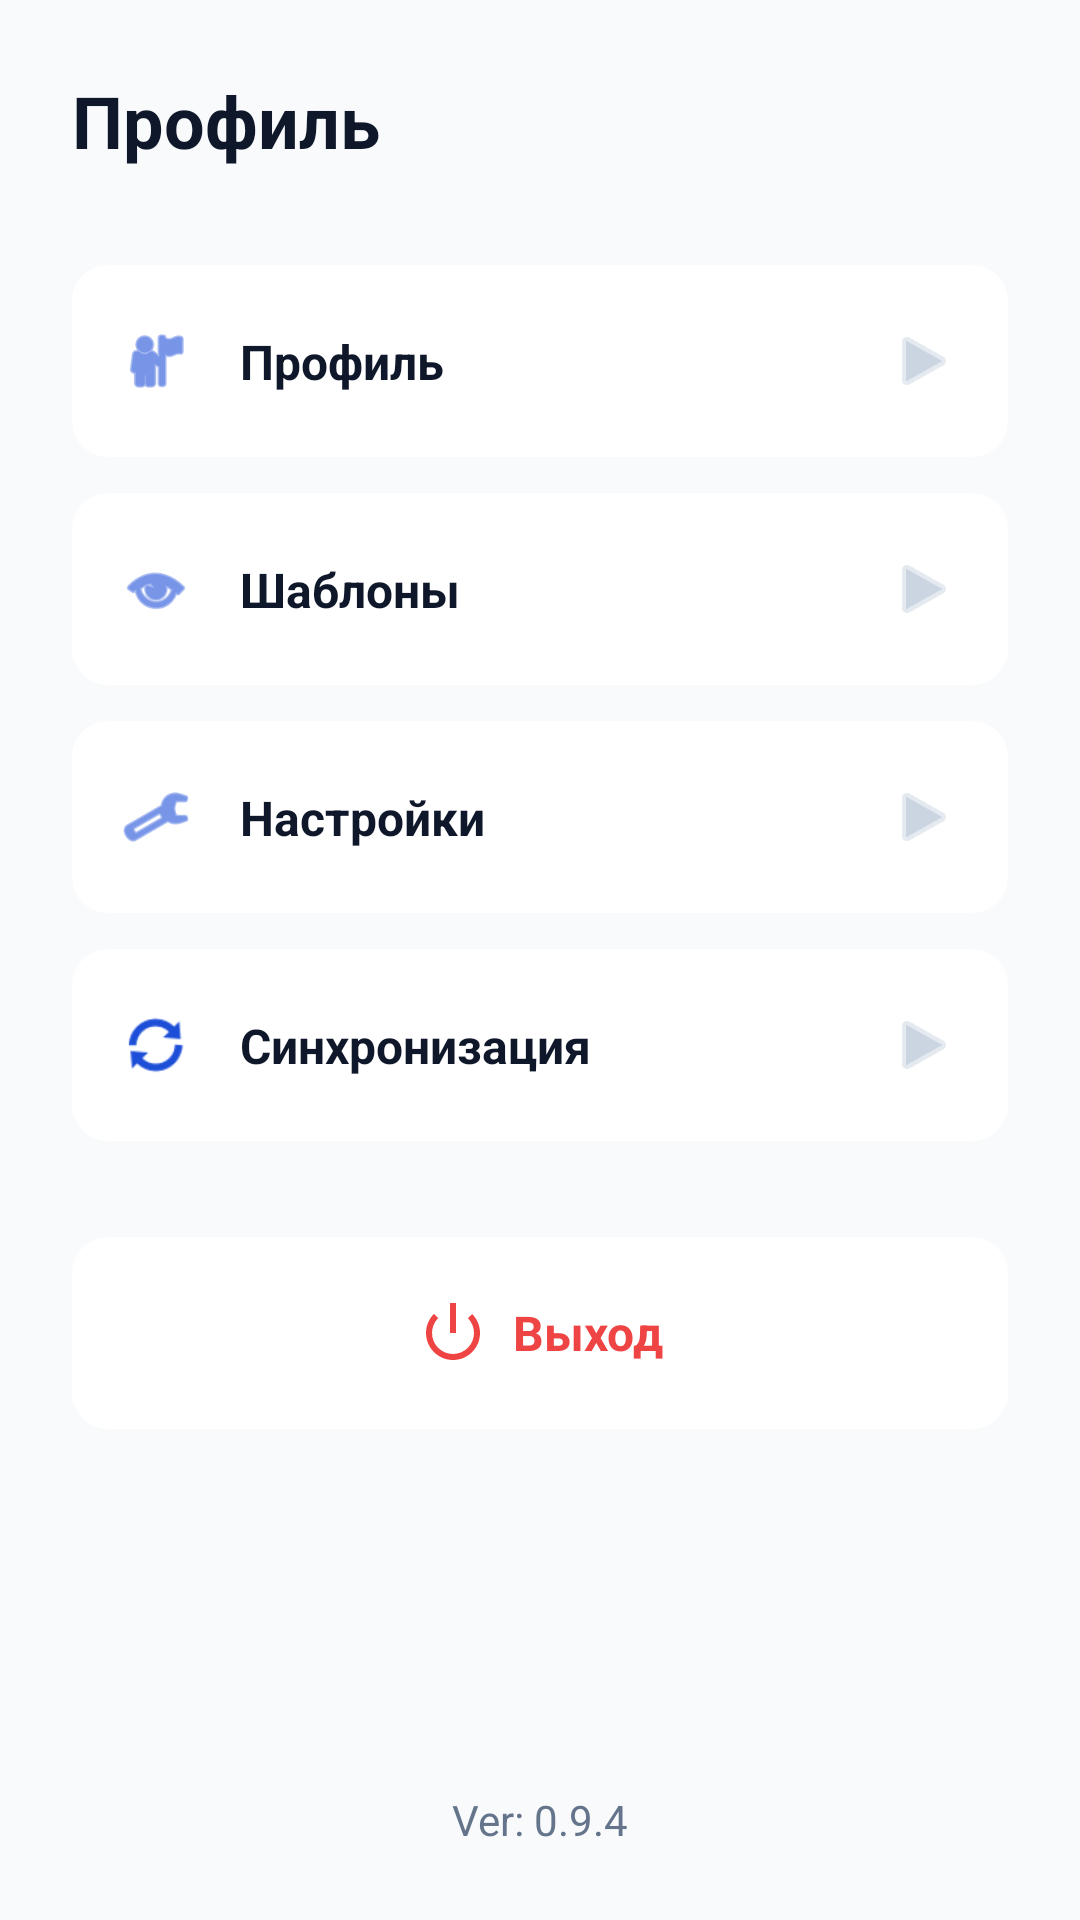

Where icons sit on this 1080px×1920px app screen, as {"left": x1, "top": y1, "right": x2, "bottom": y2}:
lock power off: {"left": 426, "top": 1303, "right": 480, "bottom": 1360}
myplaces: {"left": 130, "top": 334, "right": 184, "bottom": 388}
play: {"left": 903, "top": 337, "right": 945, "bottom": 385}, {"left": 903, "top": 565, "right": 945, "bottom": 613}, {"left": 903, "top": 793, "right": 945, "bottom": 841}, {"left": 903, "top": 1021, "right": 945, "bottom": 1069}
popup sync: {"left": 128, "top": 1018, "right": 183, "bottom": 1072}
preferences: {"left": 123, "top": 792, "right": 188, "bottom": 842}
view: {"left": 127, "top": 572, "right": 185, "bottom": 609}
